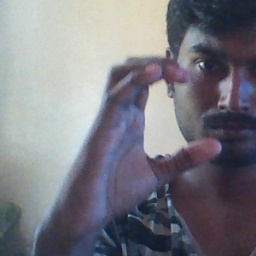C: (94, 48, 227, 184)
